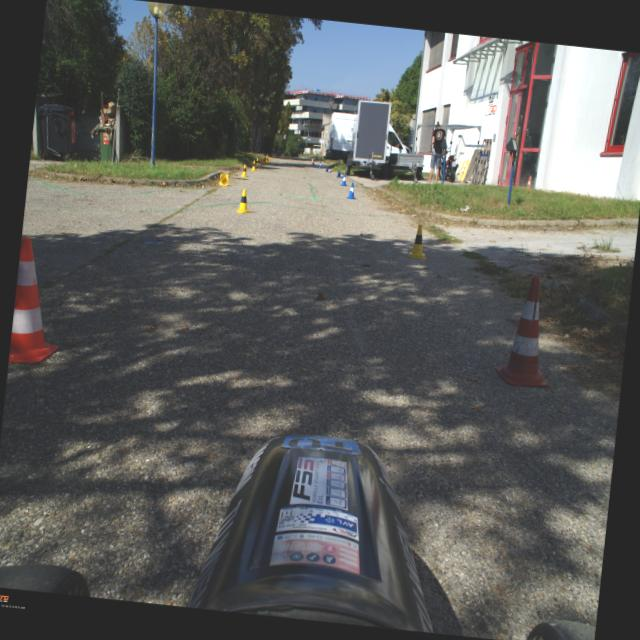blue_cone: (345, 182, 357, 199), (340, 172, 348, 185), (336, 170, 344, 178), (325, 166, 332, 172), (317, 161, 322, 168), (311, 158, 315, 166)
large_orange_cone: (8, 236, 68, 366), (494, 272, 559, 388)
orange_cone: (310, 157, 313, 164), (266, 152, 268, 158)
yellow_cone: (408, 223, 428, 260), (235, 188, 252, 214), (218, 172, 228, 185), (240, 163, 248, 177), (250, 160, 258, 170), (254, 158, 260, 166), (261, 158, 266, 163), (265, 156, 269, 162)
